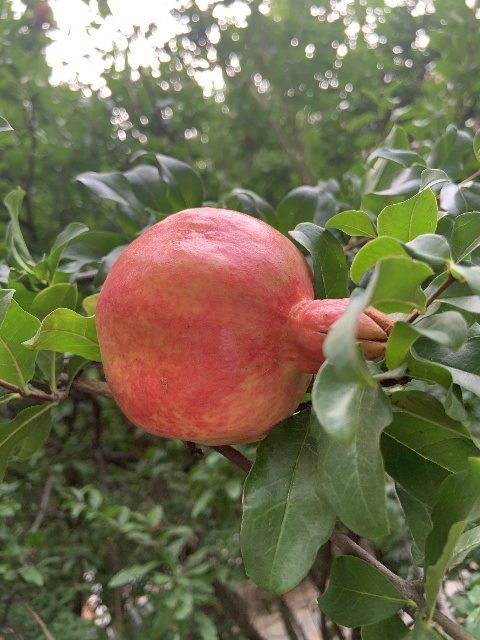ripe: (94, 205, 390, 443)
